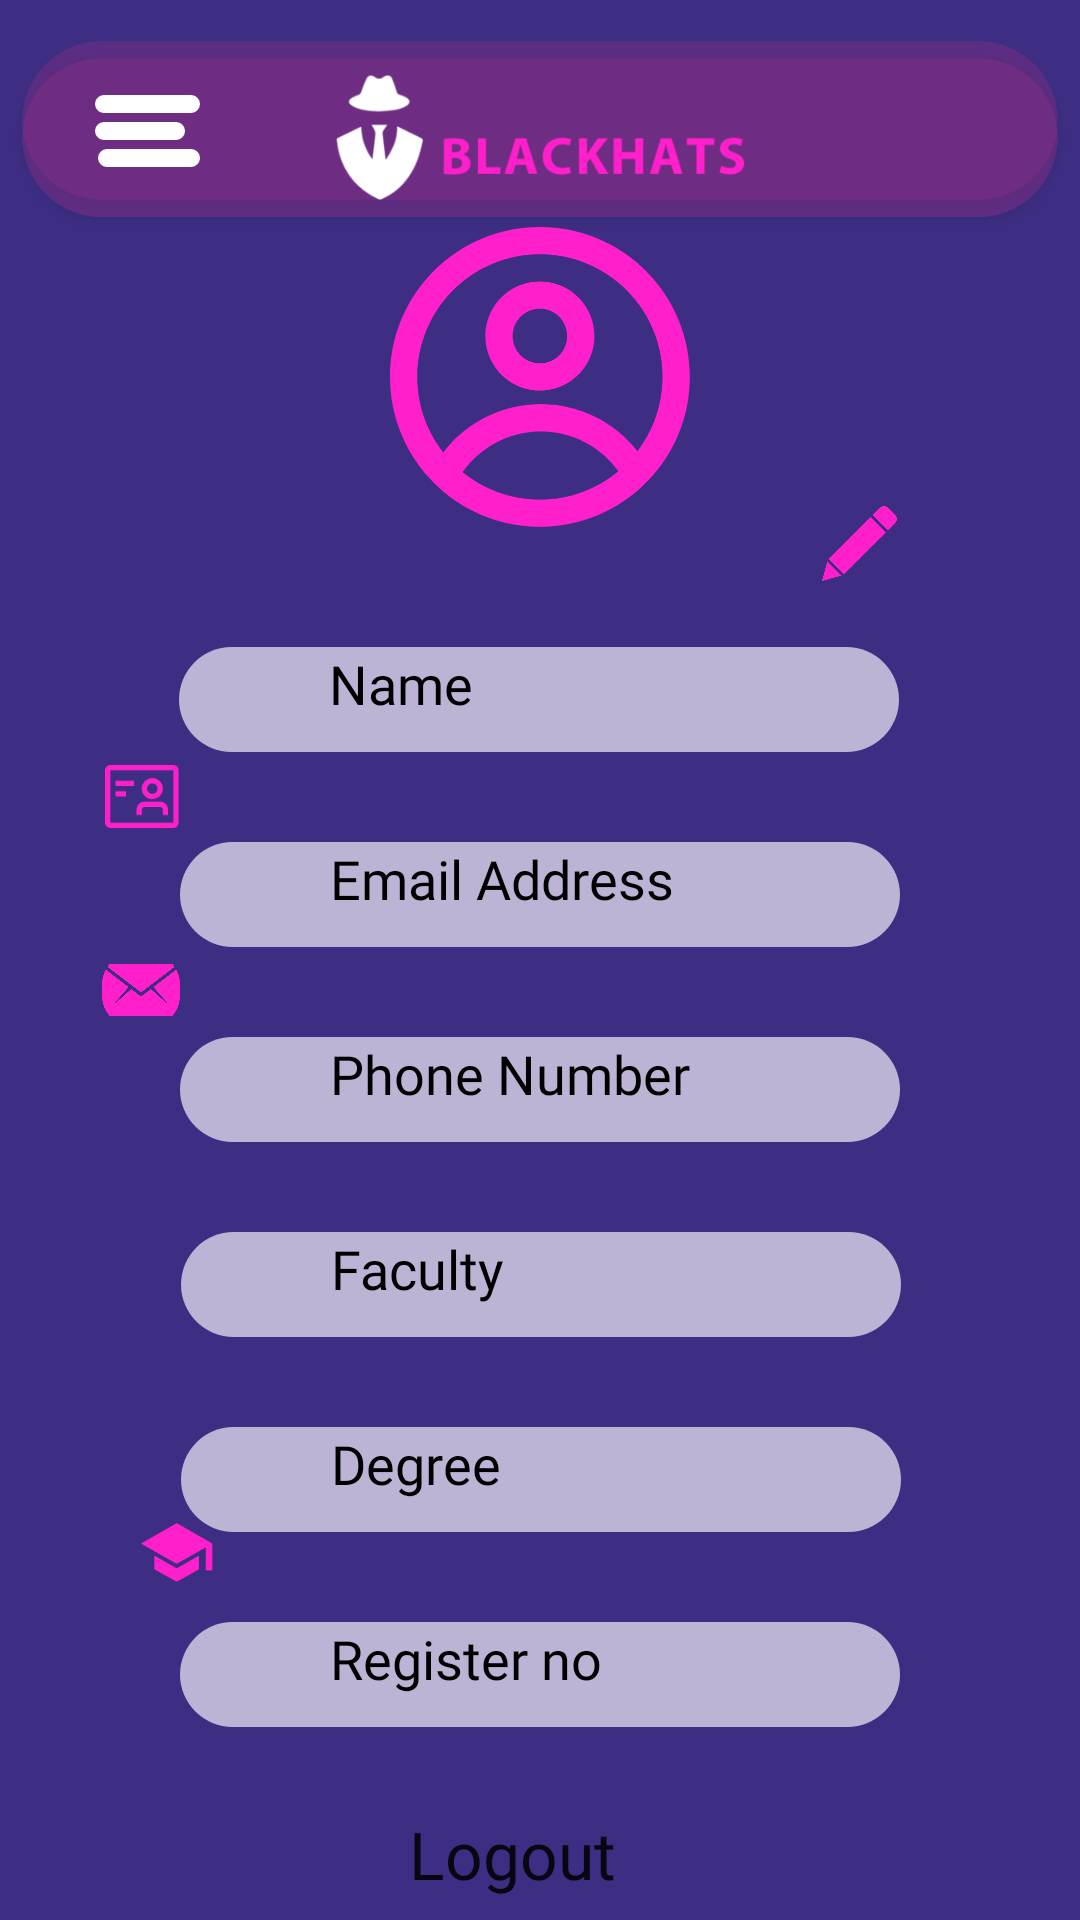

Locate icon controls on the screen. Image size 1080px×1920px, boxes as (x1,y1,x2,y2).
editpen: (822,506,897,581)
